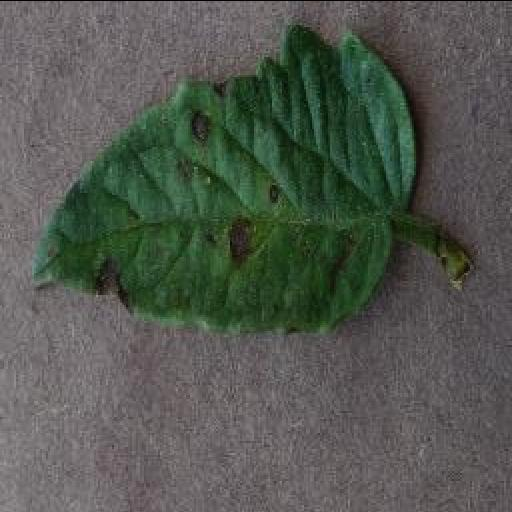disease_tomato: (30, 21, 422, 333)
